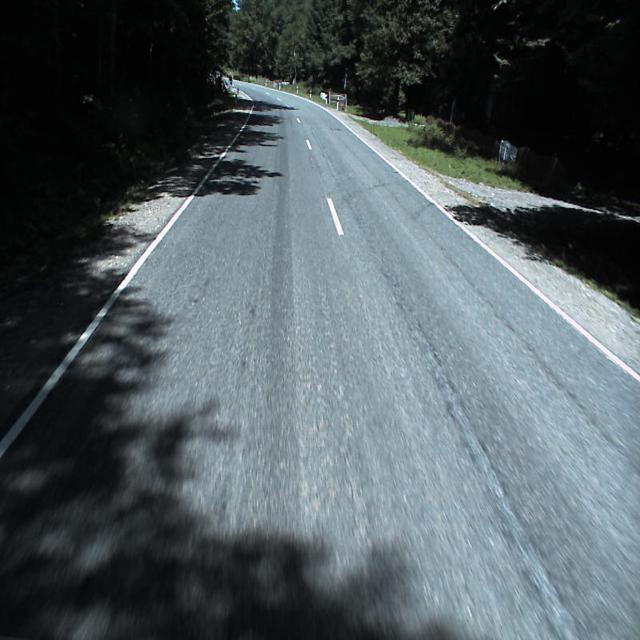road: (0, 81, 640, 639)
